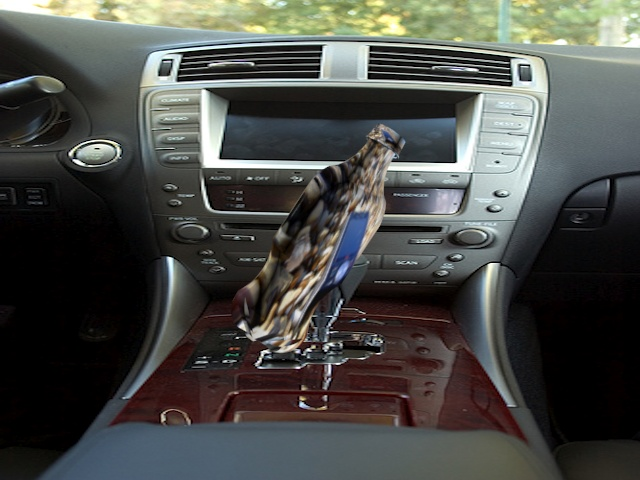bottle: (224, 113, 417, 368)
